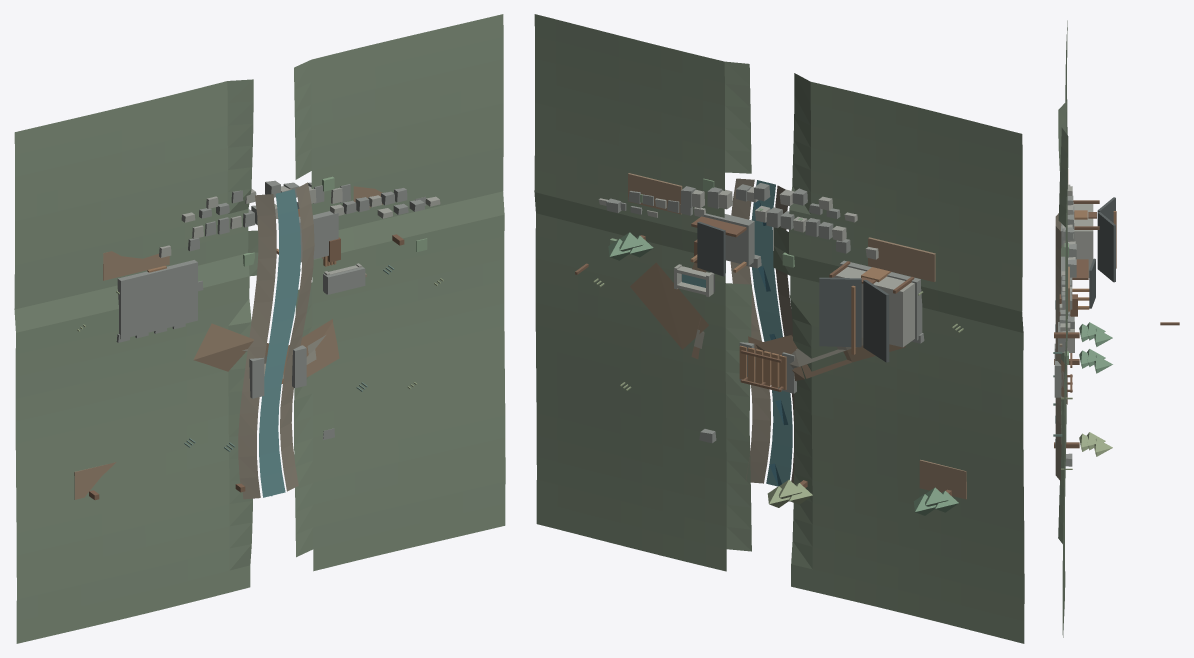
Rendered from barrosan_secondary_environment_kit.glb.
3 renders of one model, left to right at view 1: azimuth 30°, elevation 25°; view 2: azimuth 150°, elevation 25°; view 3: azimuth 270°, elevation 25°, orthographic. The views are drawn at different scales.
Parts seen in each view (by area): view 1: V0340_Uneven_Grass_Valley_Surface, V0340_Sinuous_Watercourse_Below_Banks, V0340_Barn_Dark_Agricultural_LowerLevel, V0340_Primary_Compacted_Earth_Road, V0340_Raised_Agricultural_Edge, V0340_Shed_Stone_Retaining_Base, V0340_Wall_ElevationFollowing, V0340_Wall_LongStraight, V0340_Trough_Base, V0340_Raised_Agricultural_Edge.001; view 2: V0340_Uneven_Grass_Valley_Surface, V0340_Primary_Compacted_Earth_Road, V0340_Sinuous_Watercourse_Below_Banks, V0340_Barn_Slate_Roof_Right, V0340_Barn_Rubble_UpperWall, V0340_Raised_Agricultural_Edge, V0340_Barn_Slate_Roof_Left, V0340_Wall_LongStraight, V0340_Shed_Slate_Roof, V0340_Raised_Agricultural_Edge.001, V0340_Shed_Stone_Retaining_Base, V0340_Raised_Agricultural_Edge.002 (+2 smaller); view 3: V0340_Uneven_Grass_Valley_Surface, V0340_Barn_Slate_Roof_Right, V0340_Barn_Rubble_UpperWall, V0340_Shed_Slate_Roof, V0340_Crossing_Granite_Abutment.001, V0340_Wall_ElevationFollowing, V0340_Shed_Rough_Timber_Back, V0340_Barn_Slate_Roof_Left, V0340_Wall_PartiallyCollapsed.
Part boxes in pixels (x1=…): V0340_Uneven_Grass_Valley_Surface: x1=14, y1=14, x2=505, y2=643; V0340_Sinuous_Watercourse_Below_Banks: x1=259, y1=189, x2=300, y2=497; V0340_Barn_Dark_Agricultural_LowerLevel: x1=117, y1=260, x2=197, y2=339; V0340_Primary_Compacted_Earth_Road: x1=193, y1=319, x2=339, y2=386; V0340_Raised_Agricultural_Edge: x1=103, y1=251, x2=169, y2=280; V0340_Shed_Stone_Retaining_Base: x1=299, y1=211, x2=338, y2=262; V0340_Wall_ElevationFollowing: x1=330, y1=188, x2=407, y2=215; V0340_Wall_LongStraight: x1=192, y1=204, x2=278, y2=238; V0340_Trough_Base: x1=323, y1=266, x2=365, y2=294; V0340_Raised_Agricultural_Edge.001: x1=74, y1=462, x2=116, y2=499; V0340_Uneven_Grass_Valley_Surface: x1=534, y1=14, x2=1024, y2=643; V0340_Primary_Compacted_Earth_Road: x1=630, y1=262, x2=905, y2=381; V0340_Sinuous_Watercourse_Below_Banks: x1=751, y1=180, x2=792, y2=486; V0340_Barn_Slate_Roof_Right: x1=819, y1=277, x2=861, y2=347; V0340_Barn_Rubble_UpperWall: x1=833, y1=267, x2=914, y2=347; V0340_Raised_Agricultural_Edge: x1=868, y1=237, x2=935, y2=282; V0340_Barn_Slate_Roof_Left: x1=863, y1=279, x2=889, y2=362; V0340_Wall_LongStraight: x1=755, y1=205, x2=846, y2=241; V0340_Shed_Slate_Roof: x1=697, y1=221, x2=725, y2=276; V0340_Raised_Agricultural_Edge.001: x1=919, y1=459, x2=966, y2=499; V0340_Shed_Stone_Retaining_Base: x1=699, y1=213, x2=754, y2=265; V0340_Raised_Agricultural_Edge.002: x1=628, y1=173, x2=682, y2=214; V0340_Uneven_Grass_Valley_Surface: x1=1058, y1=20, x2=1068, y2=637; V0340_Barn_Slate_Roof_Right: x1=1097, y1=212, x2=1115, y2=282; V0340_Barn_Rubble_UpperWall: x1=1073, y1=204, x2=1093, y2=277; V0340_Shed_Slate_Roof: x1=1089, y1=258, x2=1095, y2=308; V0340_Crossing_Granite_Abutment.001: x1=1054, y1=361, x2=1062, y2=397; V0340_Wall_ElevationFollowing: x1=1061, y1=271, x2=1072, y2=309; V0340_Shed_Rough_Timber_Back: x1=1072, y1=259, x2=1088, y2=279; V0340_Barn_Slate_Roof_Left: x1=1097, y1=197, x2=1115, y2=222; V0340_Wall_PartiallyCollapsed: x1=1059, y1=303, x2=1070, y2=331.
Bounding box in the file's own units: 36.8 × 36.8 × 9.8.
